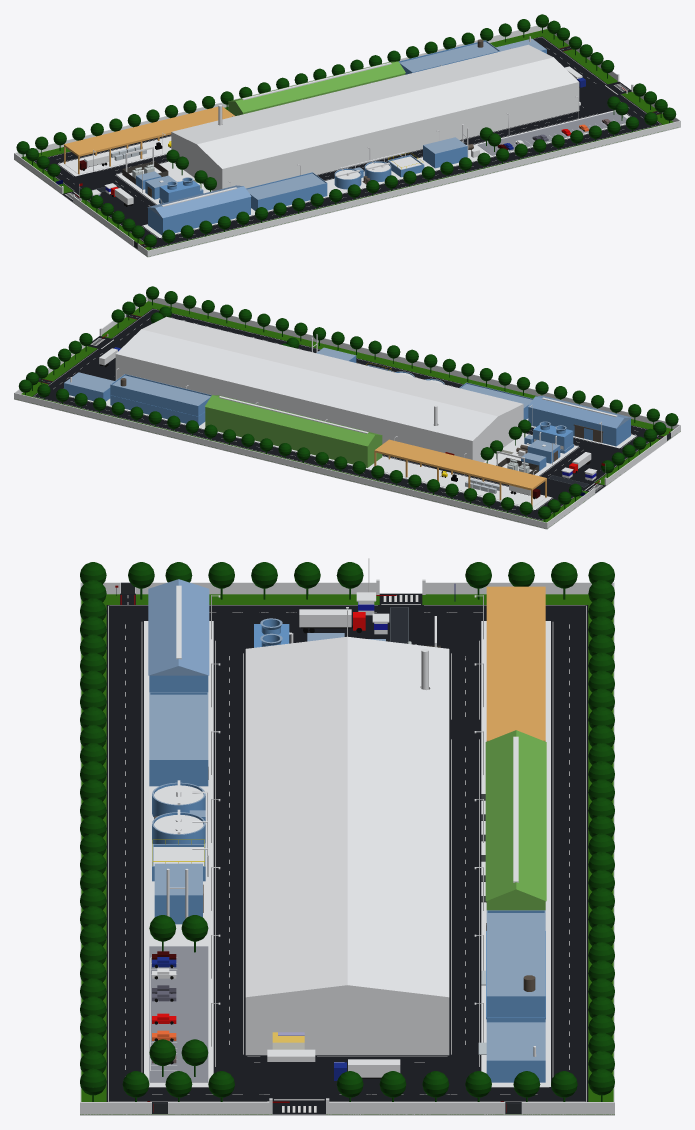
The model's file is foil.glb.
The picture shows the model from 3 angles, top to bottom: view 1: azimuth 30°, elevation 25°; view 2: azimuth 150°, elevation 25°; view 3: azimuth 270°, elevation 25°; orthographic projection. The views are drawn at different scales.
Visible parts, largest first — view 1: NAUO1; view 2: NAUO1; view 3: NAUO1.
Part boxes in pixels (x1=…): NAUO1: x1=14, y1=14, x2=680, y2=257; NAUO1: x1=14, y1=286, x2=680, y2=529; NAUO1: x1=80, y1=558, x2=614, y2=1115.
Bounding box in the file's own units: 230 × 20.61 × 99.99.
